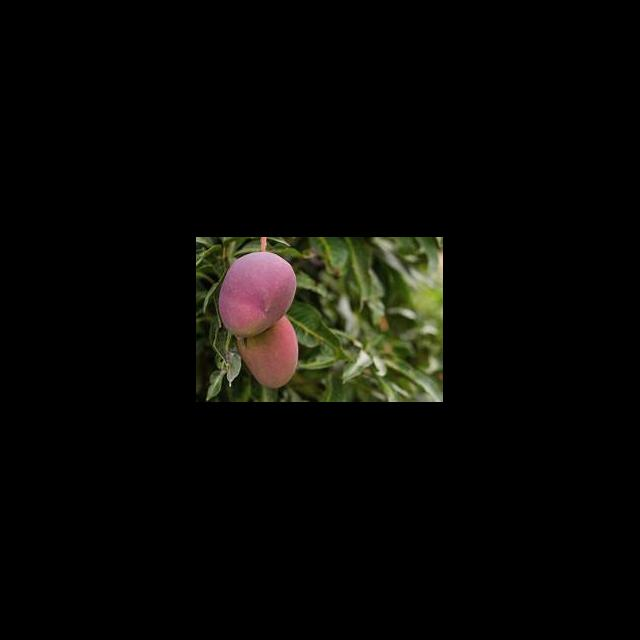mango: (216, 252, 298, 341), (238, 318, 300, 390)
